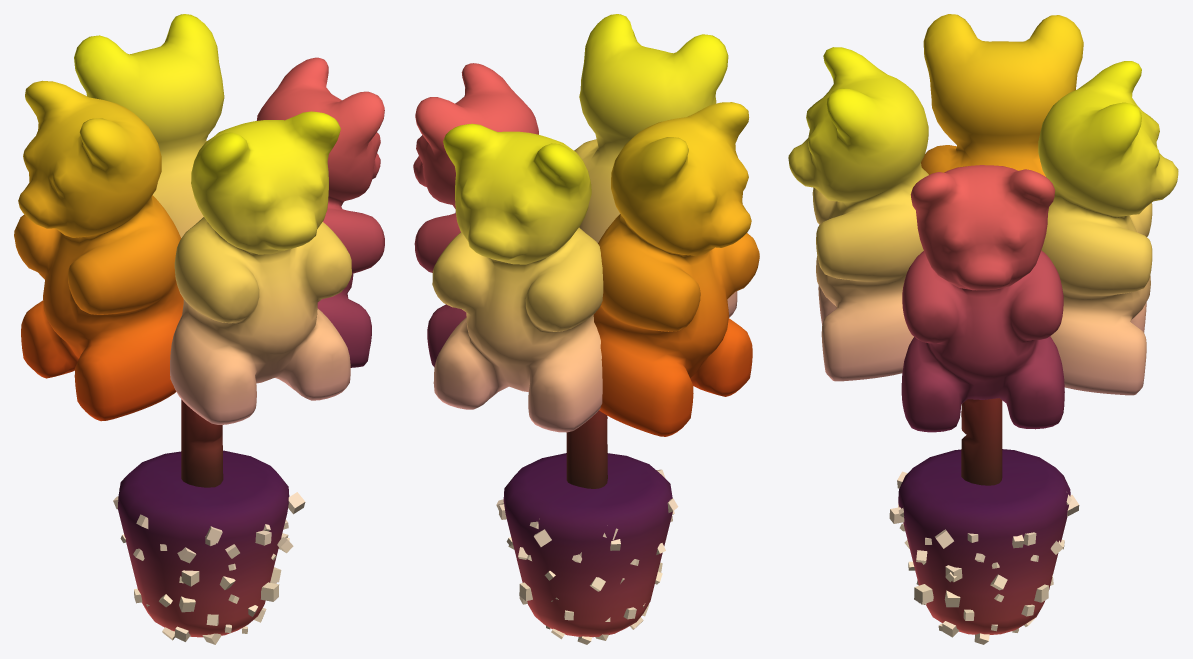
File: cw_PlantsFlowers_24.fbx
3 renders of one model, left to right at view 1: azimuth 30°, elevation 25°; view 2: azimuth 150°, elevation 25°; view 3: azimuth 270°, elevation 25°, orthographic.
Parts seen in each view (by area): view 1: cw_pf_24; view 2: cw_pf_24; view 3: cw_pf_24.
Boxes of the visible parts, bbox=[...] form: cw_pf_24: bbox=[14, 14, 384, 644]; cw_pf_24: bbox=[413, 14, 759, 644]; cw_pf_24: bbox=[788, 14, 1178, 644].
Bounding box in the file's own units: 124 × 193 × 123.
